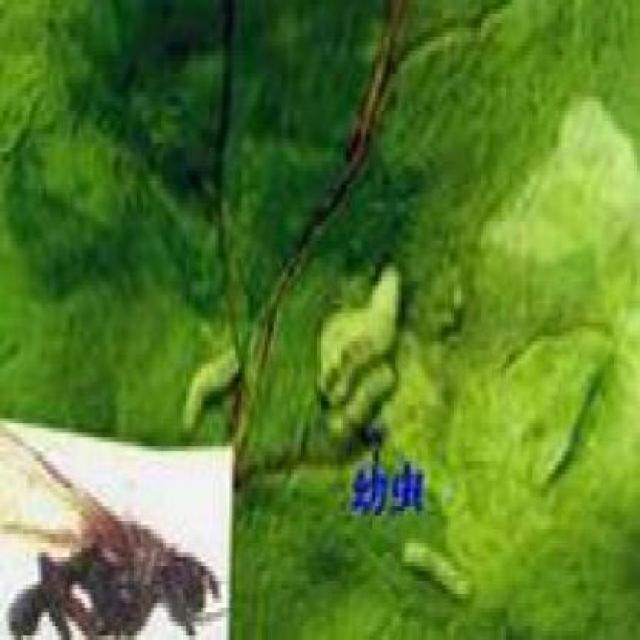whorl-maggot: (311, 242, 409, 446), (176, 337, 247, 441), (404, 529, 478, 600)
